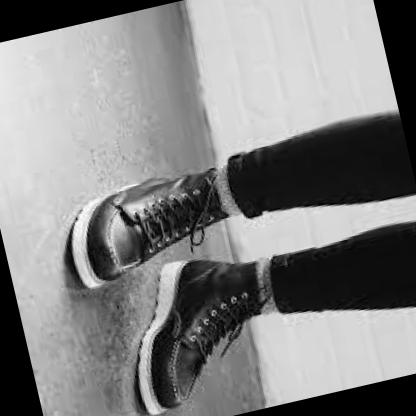ankle: (253, 273, 260, 280), (210, 175, 215, 180)
heel: (155, 179, 162, 184), (170, 273, 175, 279)
left_foot: (59, 162, 248, 294)
pinky: (88, 234, 93, 241), (176, 402, 182, 407)
right_foot: (113, 242, 295, 416)
toe: (161, 382, 167, 389), (101, 275, 108, 280)
